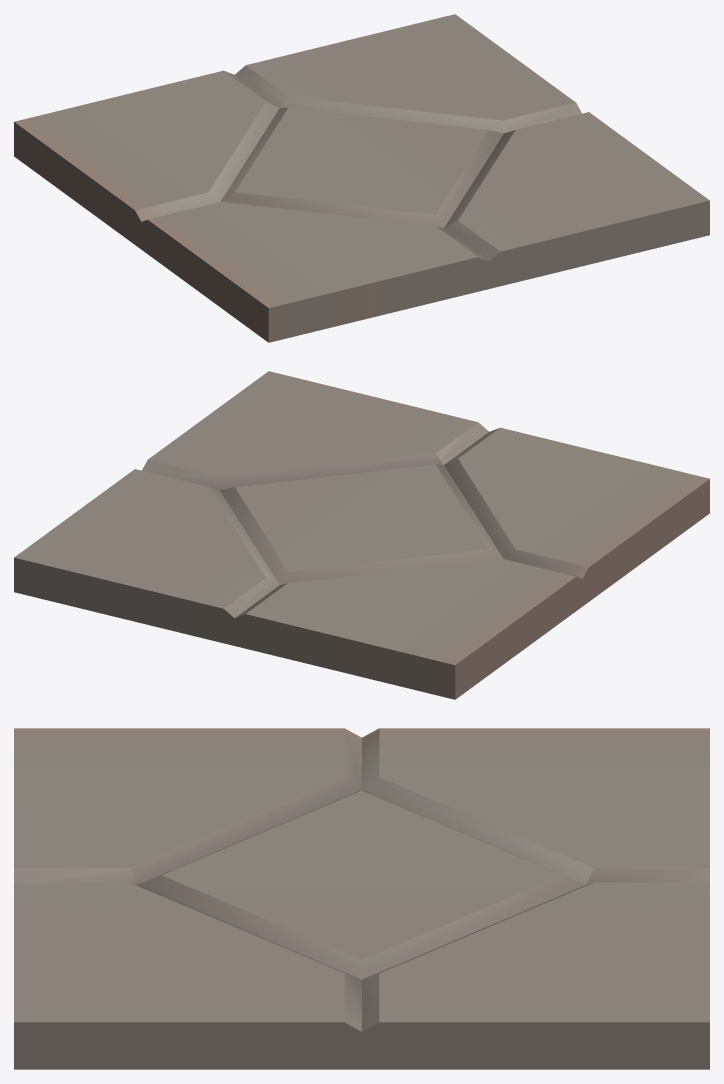
Rendered from floor_tile_small.glb.
3 views of the same model, one above another, from view 1: azimuth 30°, elevation 25°; view 2: azimuth 150°, elevation 25°; view 3: azimuth 270°, elevation 25° (orthographic). The views are drawn at different scales.
Visible parts, largest first — view 1: floor_tile_small; view 2: floor_tile_small; view 3: floor_tile_small.
Part boxes in pixels (bbox=[...]): floor_tile_small: bbox=[14, 14, 709, 342]; floor_tile_small: bbox=[14, 371, 709, 699]; floor_tile_small: bbox=[14, 728, 709, 1069].
Size of the model in its own units: 2 by 0.15 by 2.
Materials: 1 (1 with a texture image).
